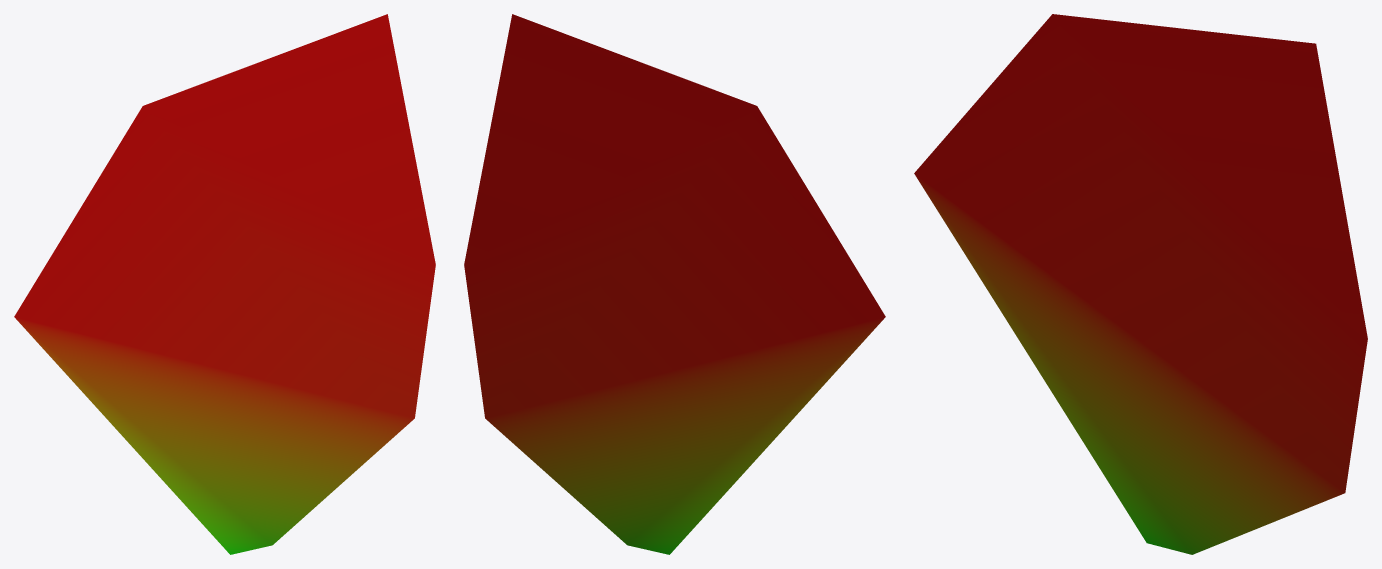
The model's file is Leptadenia_LOD5_Var6_xdkgfgtqx.fbx.
The picture shows the model from 3 angles, left to right: view 1: azimuth 30°, elevation 25°; view 2: azimuth 150°, elevation 25°; view 3: azimuth 330°, elevation 25°; orthographic projection. The views are drawn at different scales.
Parts seen in each view (by area): view 1: _jzss_Var6_LOD5; view 2: _jzss_Var6_LOD5; view 3: _jzss_Var6_LOD5.
Boxes of the visible parts, bbox=[...] form: _jzss_Var6_LOD5: bbox=[14, 14, 435, 554]; _jzss_Var6_LOD5: bbox=[464, 14, 885, 554]; _jzss_Var6_LOD5: bbox=[914, 14, 1367, 554].
Size of the model in its own units: 133 by 151 by 6.1e-05.
